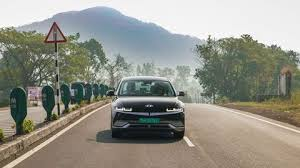Honda Ioniq: (96, 73, 194, 145)
